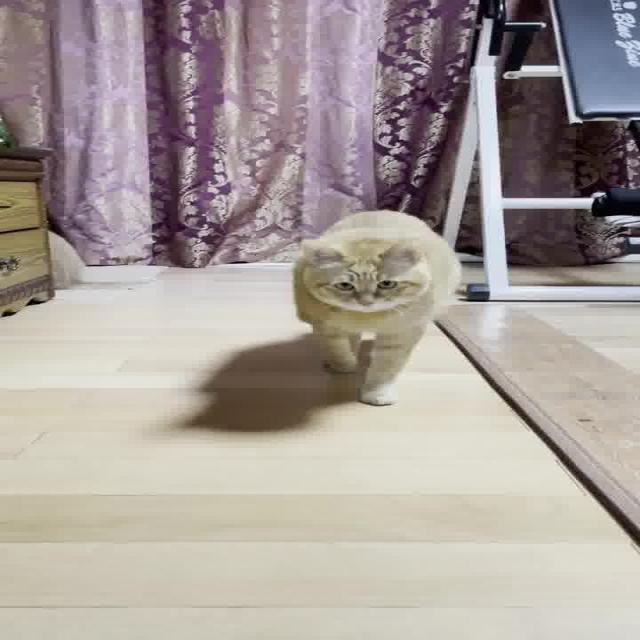cat: (280, 198, 473, 418)
